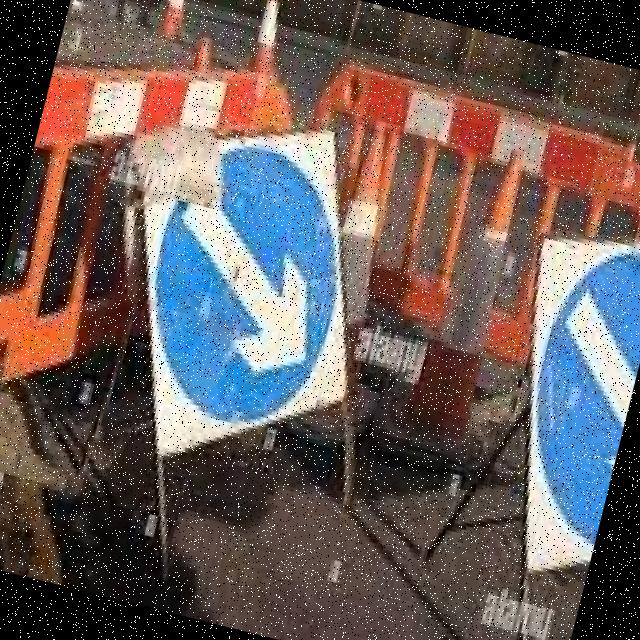compulsory_keep_right: (115, 125, 372, 443), (491, 229, 640, 552)
